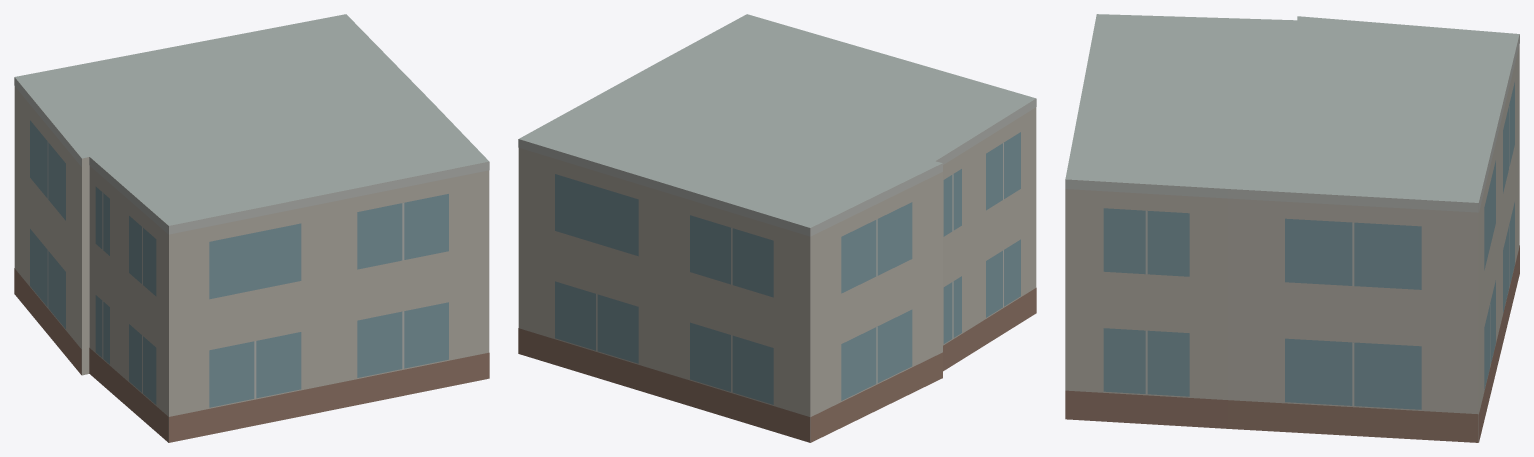
File: survey-upis-32484843.glb
3 renders of one model, left to right at view 1: azimuth 30°, elevation 25°; view 2: azimuth 150°, elevation 25°; view 3: azimuth 270°, elevation 25°, orthographic. The views are drawn at different scales.
Parts seen in each view (by area): view 1: survey-upis-32484843.tmp; view 2: survey-upis-32484843.tmp; view 3: survey-upis-32484843.tmp.
Part boxes in pixels (x1,y1,x2,y2): survey-upis-32484843.tmp: (14,14,489,442); survey-upis-32484843.tmp: (518,14,1036,442); survey-upis-32484843.tmp: (1065,14,1519,442).
Size of the model in its own units: 10.32 by 6.1 by 10.48.
